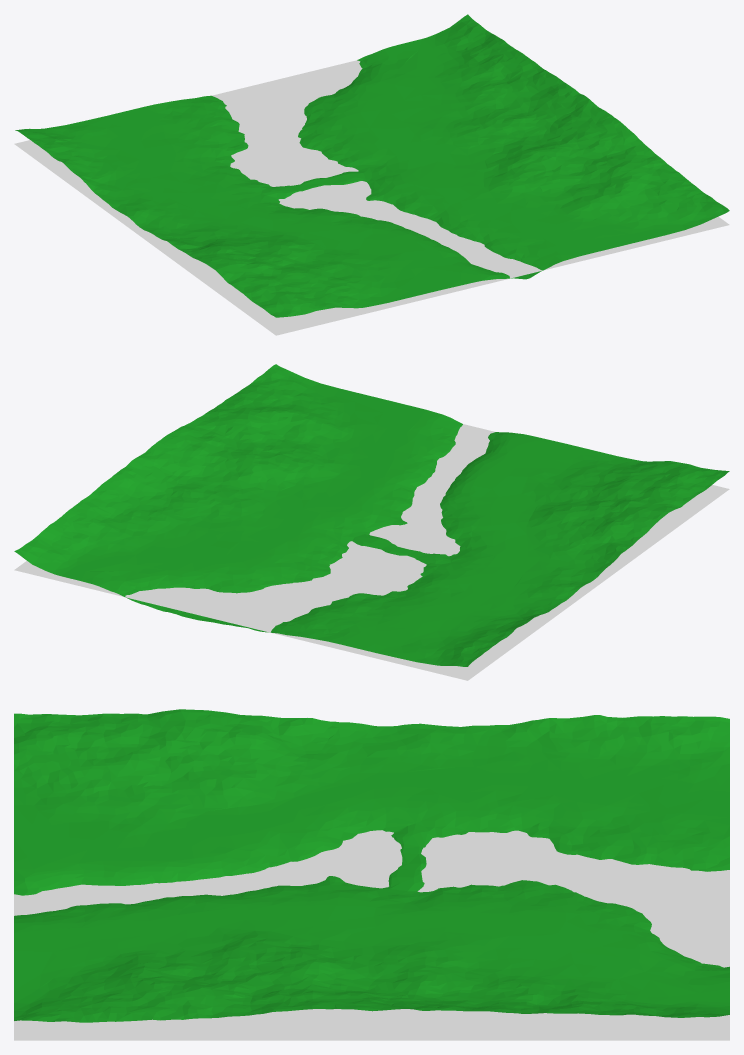
The model's file is land.glb.
3 views of the same model, one above another, from view 1: azimuth 30°, elevation 25°; view 2: azimuth 150°, elevation 25°; view 3: azimuth 270°, elevation 25° (orthographic). The views are drawn at different scales.
Visible parts, largest first — view 1: Landscape.001, Landscape_plane.001; view 2: Landscape.001, Landscape_plane.001; view 3: Landscape.001, Landscape_plane.001.
Boxes of the visible parts, bbox=[...] form: Landscape.001: bbox=[15, 14, 729, 317]; Landscape_plane.001: bbox=[14, 60, 729, 335]; Landscape.001: bbox=[14, 364, 729, 666]; Landscape_plane.001: bbox=[14, 424, 729, 680]; Landscape.001: bbox=[14, 709, 729, 1022]; Landscape_plane.001: bbox=[14, 830, 729, 1040].
Size of the model in its own units: 3.53 by 0.2129 by 3.53.
